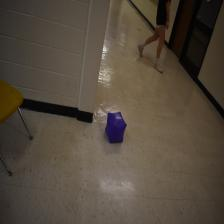cube: (104, 110, 127, 144)
